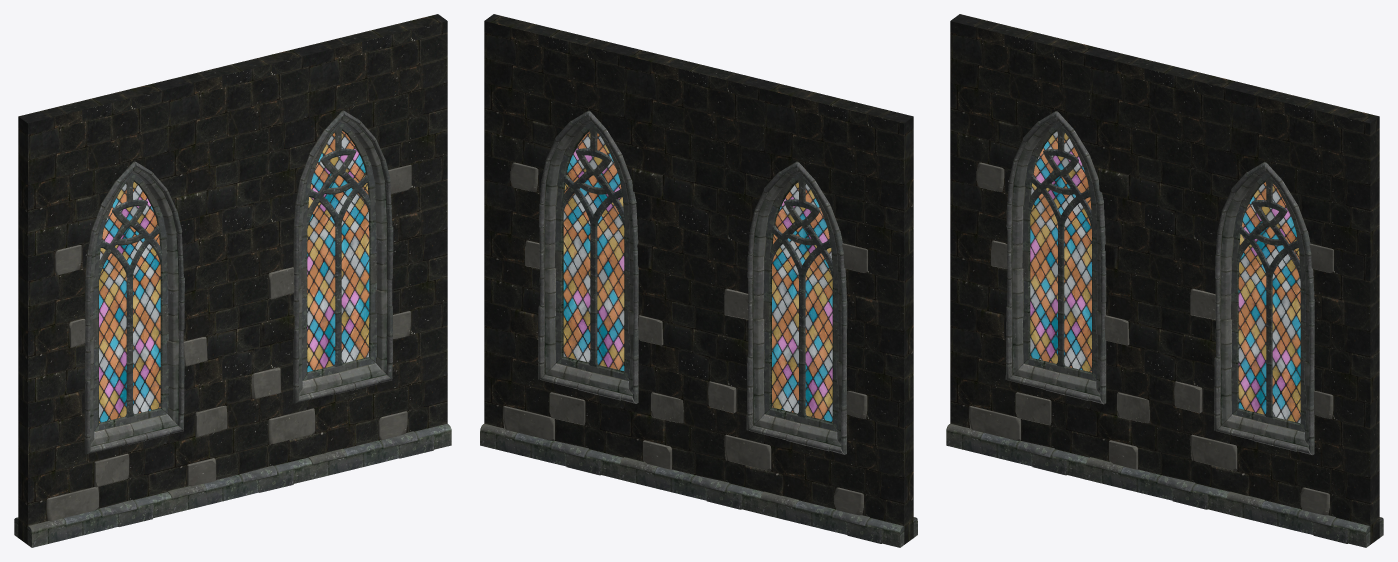
3 renders of one model, left to right at view 1: azimuth 30°, elevation 25°; view 2: azimuth 150°, elevation 25°; view 3: azimuth 330°, elevation 25°, orthographic.
Visible parts, largest first — view 1: SM_DeathTemple_Wall_12x12_01_LOD0; view 2: SM_DeathTemple_Wall_12x12_01_LOD0; view 3: SM_DeathTemple_Wall_12x12_01_LOD0.
Part boxes in pixels (box(x1,y1,x2,y2)): SM_DeathTemple_Wall_12x12_01_LOD0: box(14, 14, 451, 547); SM_DeathTemple_Wall_12x12_01_LOD0: box(480, 14, 917, 547); SM_DeathTemple_Wall_12x12_01_LOD0: box(946, 14, 1383, 547).
Bounding box in the file's own units: 12 × 11.51 × 0.9478.
Materials: 4 (4 with a texture image).
